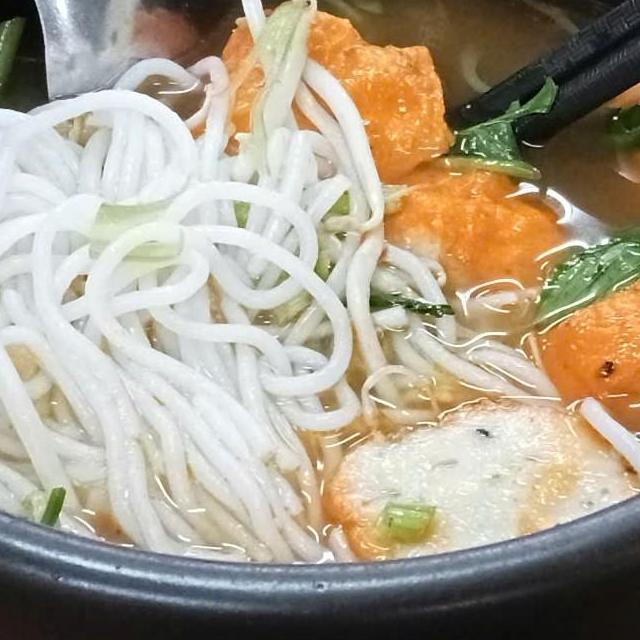bun: (0, 46, 379, 575), (338, 228, 565, 436)
